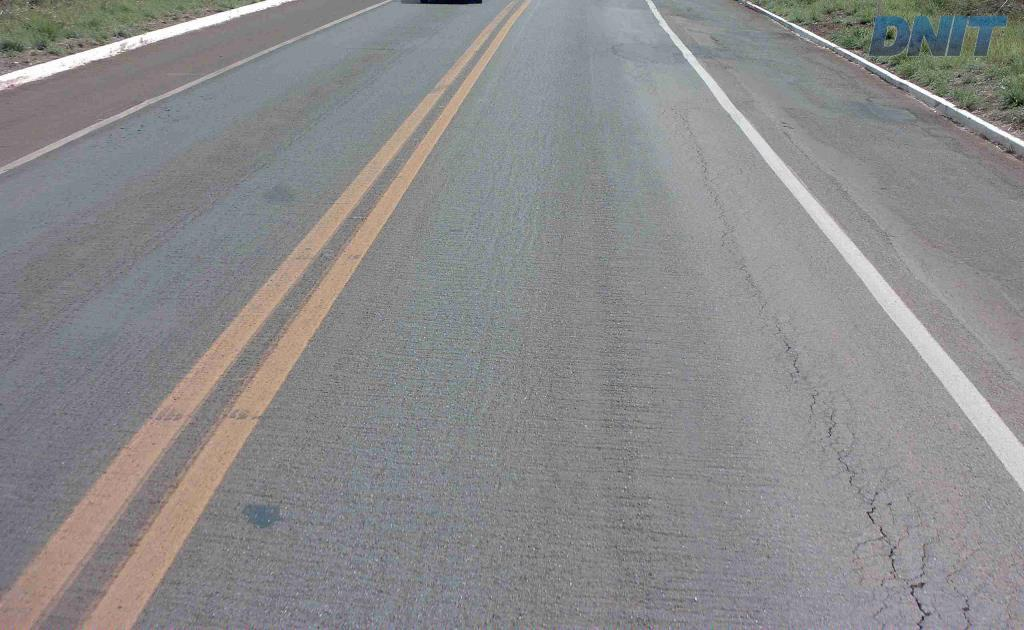crack: (880, 534, 940, 600)
